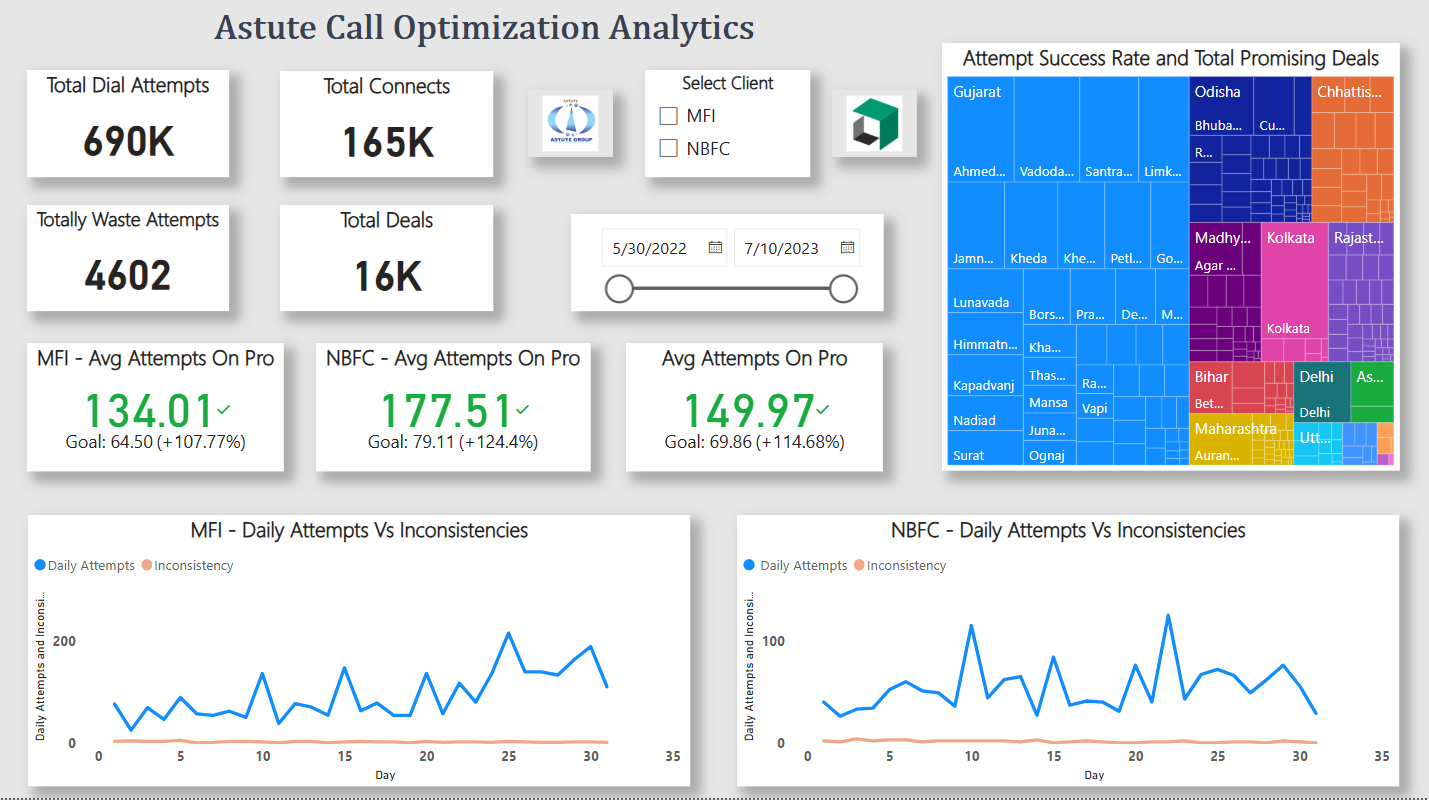

The page's visual inventory and layout, read from the dashboard file:
{"tool":"powerbi","page":{"name":"Page 1","canvas":[1280,720],"ordinal":0},"visuals":[{"type":"card","title":"Totally Waste Attempts","fields":{"Values":["CountNonNull(Effort.Waste Attempts)"]},"box":[25.5,188.8,180.7,95],"z":0},{"type":"card","title":"Total Dial Attempts","fields":{"Values":["Sum(Effort.Total Dialling Attempts)"]},"box":[25.2,68.3,180.8,95.6],"z":1000},{"type":"card","title":"Total Connects","fields":{"Values":["Sum(Effort.Total Connect)"]},"box":[251.2,69.4,191.3,94.6],"z":2000},{"type":"lineChart","title":"MFI  - Daily Attempts Vs Inconsistencies","fields":{"Category":["MFI.Date Column.Variation.Date Hierarchy.Year","MFI.Date Column.Variation.Date Hierarchy.Quarter","MFI.Date Column.Variation.Date Hierarchy.Month","MFI.Date Column.Variation.Date Hierarchy.Day"],"Y":["CountNonNull(MFI.Daily Attempts)","Sum(MFI.Inconsistency)"]},"box":[25.6,466.7,593.3,243.3],"z":3000},{"type":"lineChart","title":"NBFC - Daily Attempts Vs Inconsistencies","fields":{"Category":["NBFC.Date Column.Variation.Date Hierarchy.Year","NBFC.Date Column.Variation.Date Hierarchy.Quarter","NBFC.Date Column.Variation.Date Hierarchy.Month","NBFC.Date Column.Variation.Date Hierarchy.Day"],"Y":["CountNonNull(NBFC.Daily Attempts)","Sum(NBFC.Inconsistency)"]},"box":[661.1,466.7,593.3,243.3],"z":4000},{"type":"map","title":"Attempt Success Rate and Total Promising  Deals","fields":{"Category":["Location & Product.State"],"Size":["Sum(Location & Product.Deal)"],"Series":["Location & Product.City"]},"box":[844.2,44,409.9,383.3],"z":5000},{"type":"card","title":"Total Deals","fields":{"Values":["Sum(Effort.Deal)"]},"box":[251.3,188.8,191.1,95],"z":6000},{"type":"slicer","title":"Select Client","fields":{"Values":["Effort.Client"]},"box":[578.1,68.3,148.2,95.6],"z":7000},{"type":"slicer","fields":{"Values":["Effort.Date Column"]},"box":[511.8,196.9,280.2,86.9],"z":8000},{"type":"image","box":[474,86.2,75.7,59.9],"z":9000},{"type":"image","box":[746.3,86.2,75.7,59.9],"z":10000},{"type":"kpi","title":"MFI - Avg Attempts On Pro ","fields":{"TrendLine":["Promise.Client"],"Indicator":["Avg(Promise.Total Dialling Attempts)"],"Goal":["Avg(Promise.Average Attempts for Promising)"]},"box":[25.5,312.7,230.4,114.6],"z":11000},{"type":"kpi","title":"NBFC - Avg Attempts On Pro ","fields":{"TrendLine":["Promise.Client"],"Indicator":["Avg(Promise.Total Dialling Attempts)"],"Goal":["Avg(Promise.Average Attempts for Promising)"]},"box":[283.7,312.7,245.5,114.6],"z":12000},{"type":"kpi","title":"Avg Attempts On Pro","fields":{"Goal":["Avg(Promise.Average Attempts for Promising)"],"Indicator":["Avg(Promise.Total Dialling Attempts)"],"TrendLine":["Promise.Promising Loan"]},"box":[561.6,312.7,230.4,114.6],"z":13000},{"type":"textbox","box":[25.2,7.4,818.8,51.5],"z":14000}]}

Visuals, with their boxes in screenshot pixels (x1, y1, x2, y2), scaled from the page's 1280x720 canvas onto the 1429x800 screenshot:
"Totally Waste Attempts" card: {"x1": 28, "y1": 210, "x2": 230, "y2": 315}
"Total Dial Attempts" card: {"x1": 28, "y1": 76, "x2": 230, "y2": 182}
"Total Connects" card: {"x1": 280, "y1": 77, "x2": 494, "y2": 182}
"MFI  - Daily Attempts Vs Inconsistencies" lineChart: {"x1": 29, "y1": 519, "x2": 691, "y2": 789}
"NBFC - Daily Attempts Vs Inconsistencies" lineChart: {"x1": 738, "y1": 519, "x2": 1400, "y2": 789}
"Attempt Success Rate and Total Promising  Deals" map: {"x1": 942, "y1": 49, "x2": 1400, "y2": 475}
"Total Deals" card: {"x1": 281, "y1": 210, "x2": 494, "y2": 315}
"Select Client" slicer: {"x1": 645, "y1": 76, "x2": 811, "y2": 182}
slicer - Effort.Date Column: {"x1": 571, "y1": 219, "x2": 884, "y2": 315}
image: {"x1": 529, "y1": 96, "x2": 614, "y2": 162}
image: {"x1": 833, "y1": 96, "x2": 918, "y2": 162}
"MFI - Avg Attempts On Pro " kpi: {"x1": 28, "y1": 347, "x2": 286, "y2": 475}
"NBFC - Avg Attempts On Pro " kpi: {"x1": 317, "y1": 347, "x2": 591, "y2": 475}
"Avg Attempts On Pro" kpi: {"x1": 627, "y1": 347, "x2": 884, "y2": 475}
textbox: {"x1": 28, "y1": 8, "x2": 942, "y2": 65}
